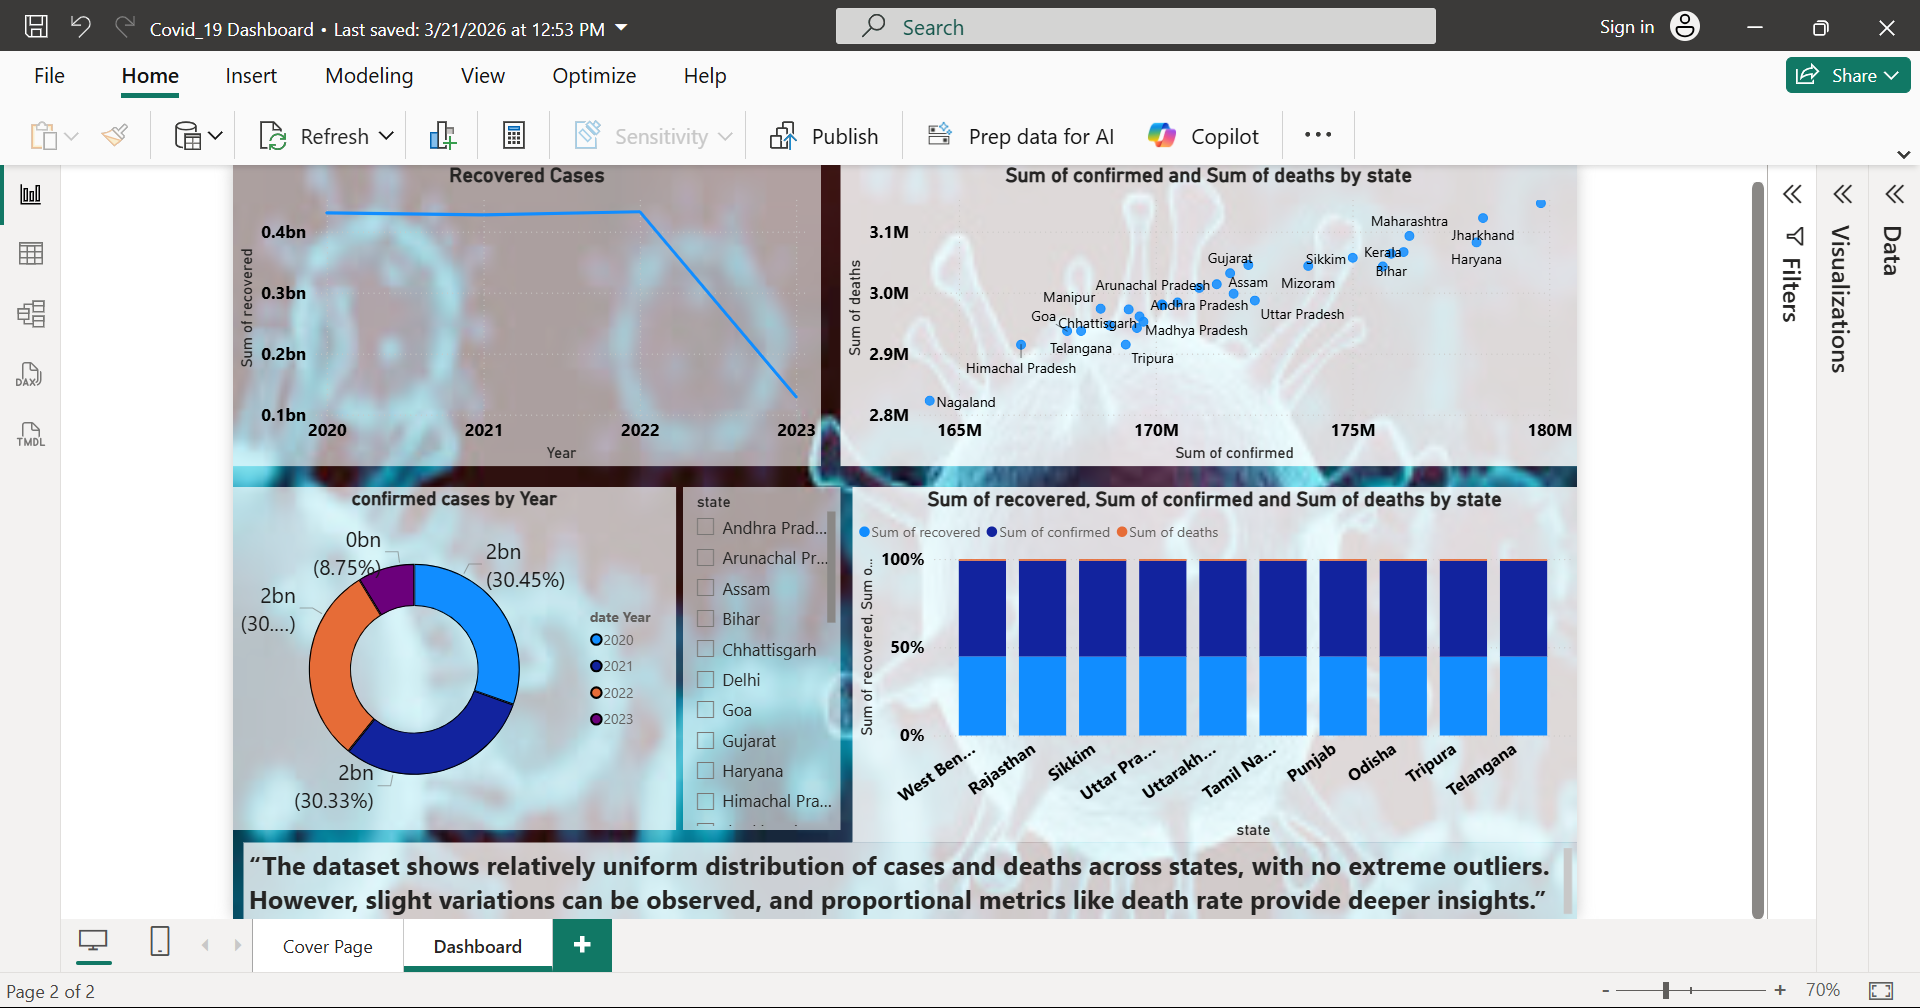

Layout of this report page (visuals, bound fields, positions):
{"tool":"powerbi","page":{"name":"Dashboard","canvas":[1280,720],"ordinal":1},"visuals":[{"type":"donutChart","title":"confirmed cases by Year","fields":{"Category":["Clean_Covid_India.date.Variation.Date Hierarchy.Year","Clean_Covid_India.date.Variation.Date Hierarchy.Quarter","Clean_Covid_India.date.Variation.Date Hierarchy.Month","Clean_Covid_India.date.Variation.Date Hierarchy.Day"],"Y":["Sum(Clean_Covid_India.confirmed)"]},"box":[0,308.3,421.7,326.7],"z":0},{"type":"textbox","box":[10,646.7,1270,73.3],"z":1000},{"type":"lineChart","title":"Recovered  Cases","fields":{"Category":["Clean_Covid_India.date.Variation.Date Hierarchy.Year","Clean_Covid_India.date.Variation.Date Hierarchy.Quarter","Clean_Covid_India.date.Variation.Date Hierarchy.Month","Clean_Covid_India.date.Variation.Date Hierarchy.Day"],"Y":["Sum(Clean_Covid_India.recovered)"]},"box":[0,0,560,288.3],"z":2000},{"type":"scatterChart","fields":{"Category":["Clean_Covid_India.state"],"X":["Sum(Clean_Covid_India.confirmed)"],"Y":["Sum(Clean_Covid_India.deaths)"]},"box":[578.3,0,701.7,288.3],"z":2001},{"type":"hundredPercentStackedColumnChart","fields":{"Category":["Clean_Covid_India.state"],"Y":["Sum(Clean_Covid_India.recovered)","Sum(Clean_Covid_India.confirmed)","Sum(Clean_Covid_India.deaths)"]},"box":[590,308.3,690,338.3],"z":2002},{"type":"slicer","fields":{"Values":["Clean_Covid_India.state"]},"box":[428.3,308.3,150,326.7],"z":2003}]}

Visuals, with their boxes on the page's 1280x720 design canvas (x1, y1, x2, y2). These are canvas units, not pixel positions in the 1920x1008 screenshot, which may show the page scaled, cropped or inside an application window:
"confirmed cases by Year" donutChart: 0:308:422:635
textbox: 10:647:1280:720
"Recovered  Cases" lineChart: 0:0:560:288
scatterChart - Clean_Covid_India.state x Sum(Clean_Covid_India.confirmed): 578:0:1280:288
hundredPercentStackedColumnChart - Clean_Covid_India.state x Sum(Clean_Covid_India.recovered): 590:308:1280:647
slicer - Clean_Covid_India.state: 428:308:578:635
